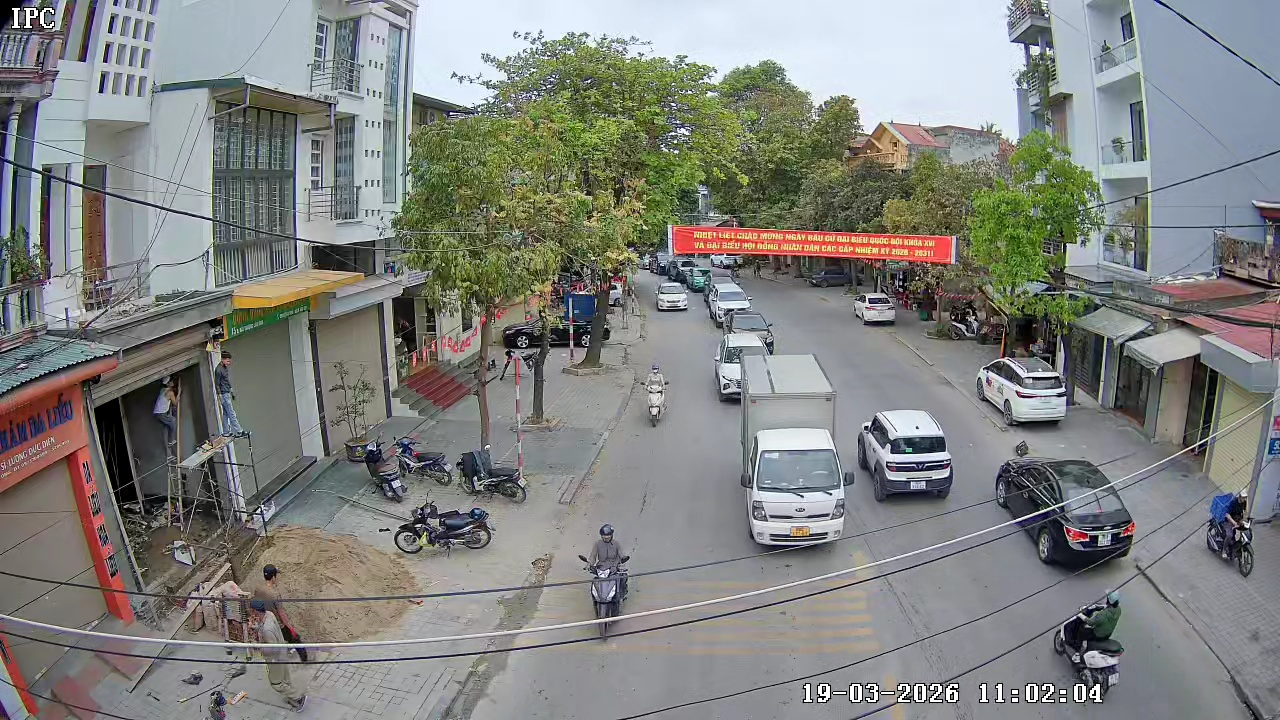car: (1022, 486, 1136, 569), (857, 408, 953, 502), (976, 354, 1068, 428), (995, 443, 1065, 518), (728, 314, 777, 356), (709, 287, 751, 331), (714, 352, 748, 403), (856, 293, 897, 327), (655, 280, 691, 313)
motorbike: (1057, 587, 1126, 706), (393, 494, 497, 556), (576, 522, 634, 623), (455, 441, 529, 504), (1204, 491, 1256, 576), (644, 364, 669, 428)
truck: (741, 351, 854, 550)
